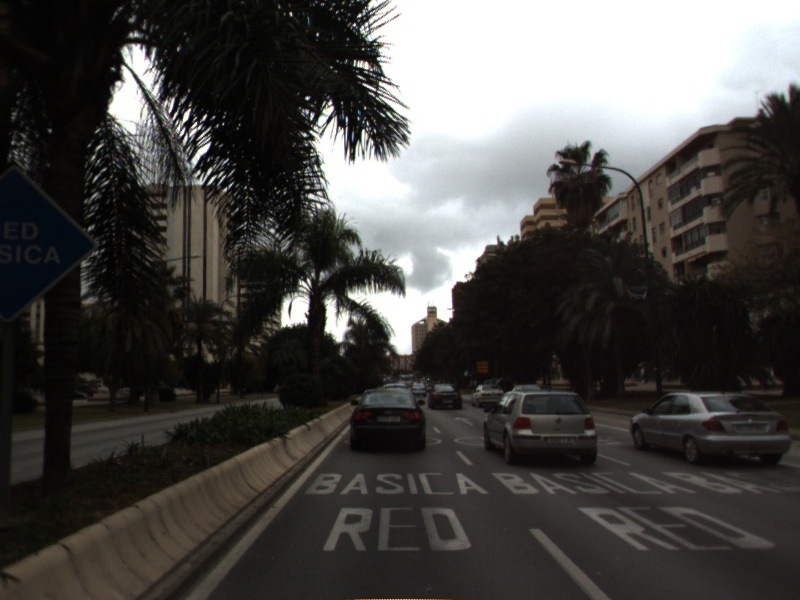STRAIGHT: (452, 414, 477, 427)
